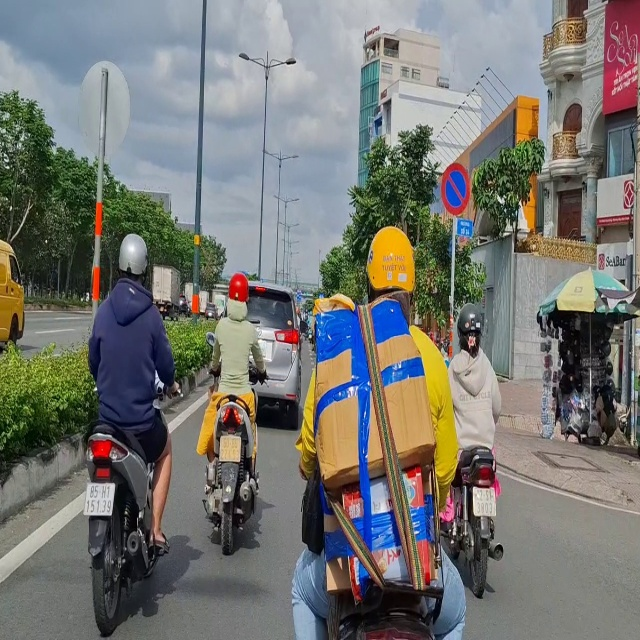cam do xe: (429, 155, 475, 220)
